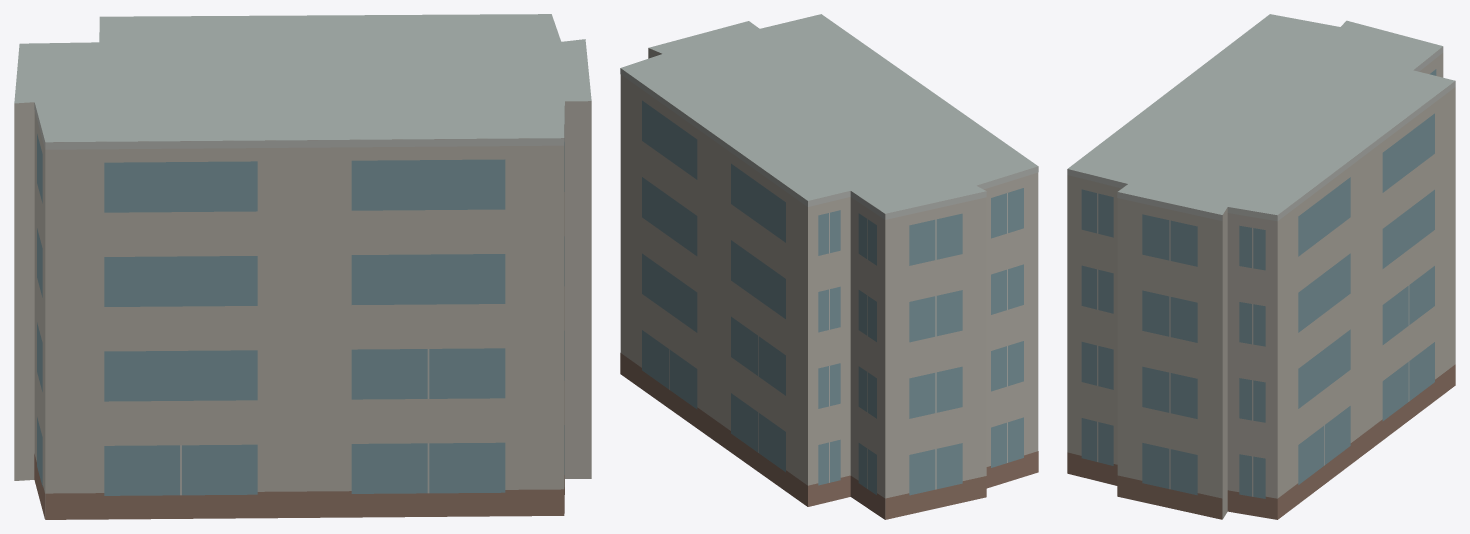
The model's file is survey-upis-32674074.glb.
3 renders of one model, left to right at view 1: azimuth 30°, elevation 25°; view 2: azimuth 150°, elevation 25°; view 3: azimuth 270°, elevation 25°, orthographic. The views are drawn at different scales.
Parts seen in each view (by area): view 1: survey-upis-32674074.tmp; view 2: survey-upis-32674074.tmp; view 3: survey-upis-32674074.tmp.
Part boxes in pixels (left/top/right/bottom): survey-upis-32674074.tmp: left=14, top=14, right=591, bottom=519; survey-upis-32674074.tmp: left=620, top=14, right=1038, bottom=519; survey-upis-32674074.tmp: left=1067, top=14, right=1455, bottom=519.
Size of the model in its own units: 17.29 by 12.2 by 14.1.
